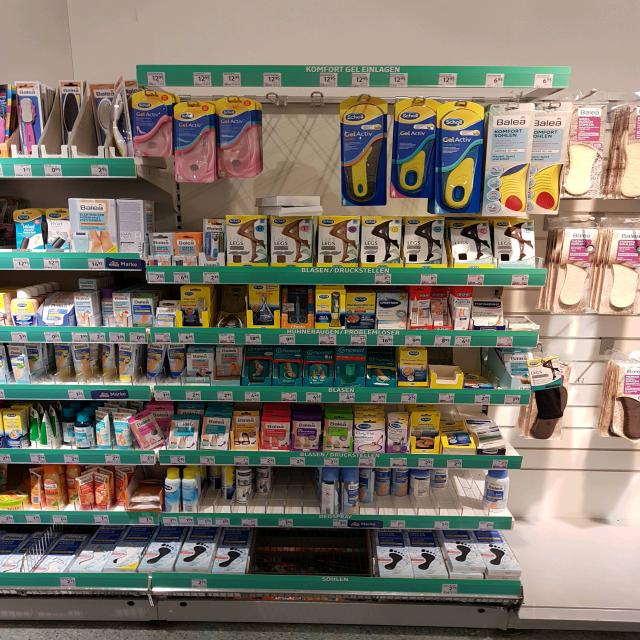empty: (251, 526, 362, 579), (260, 462, 323, 514), (450, 471, 483, 525), (504, 288, 540, 334), (429, 346, 462, 390)
